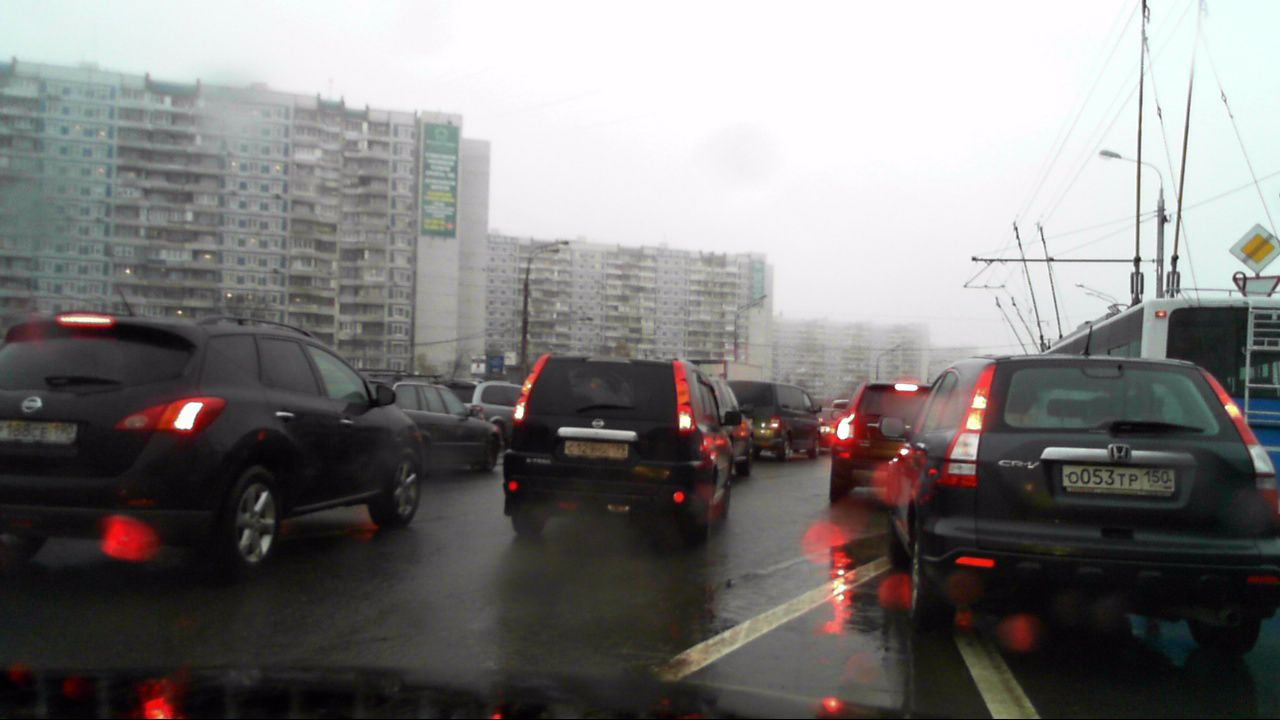main road: (1227, 224, 1279, 275)
